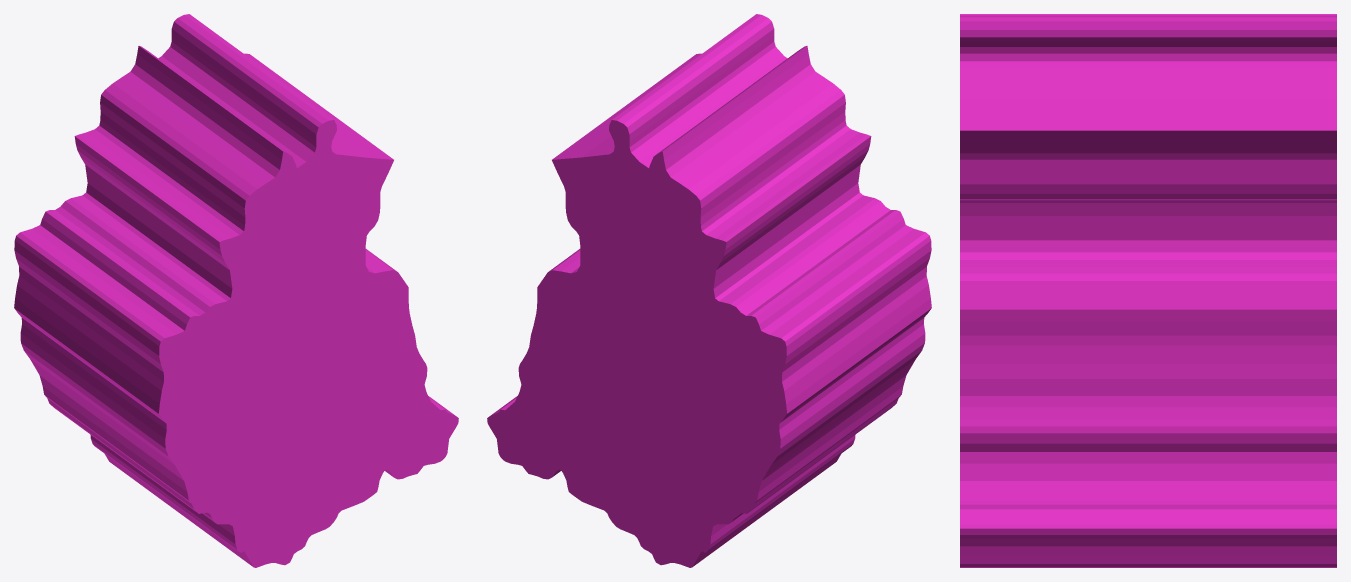
File: lauricocha.glb
3 views of the same model, side by side, from view 1: azimuth 30°, elevation 25°; view 2: azimuth 150°, elevation 25°; view 3: azimuth 270°, elevation 25° (orthographic). The views are drawn at different scales.
Parts seen in each view (by area): view 1: lauricocha; view 2: lauricocha; view 3: lauricocha.
Boxes of the visible parts, x1,y1,x2,y2 form: lauricocha: (14, 14, 458, 567); lauricocha: (487, 14, 931, 567); lauricocha: (960, 14, 1336, 567).
Size of the model in its own units: 1.6 by 2.2 by 1.33.
